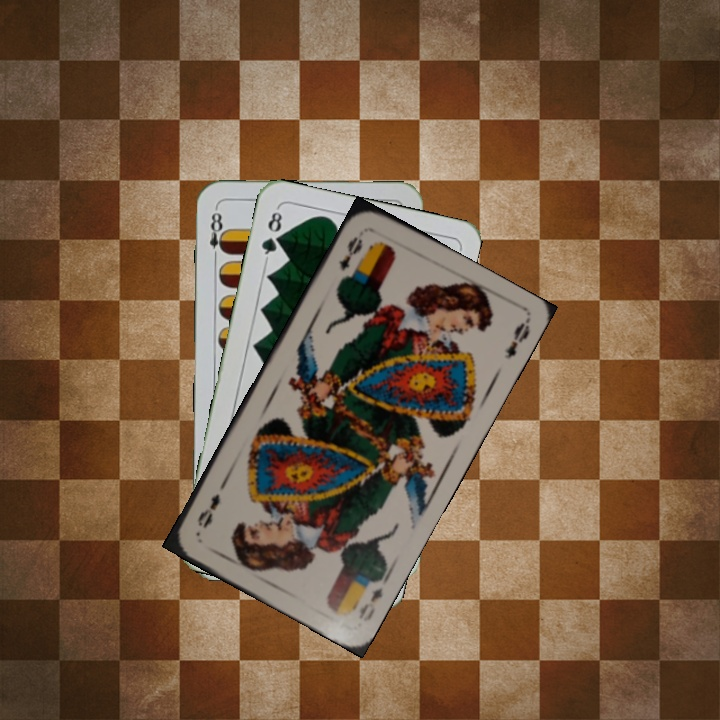E8: (206, 205, 229, 264)
EO: (349, 571, 391, 624), (334, 232, 365, 274)
G8: (257, 204, 285, 263)
